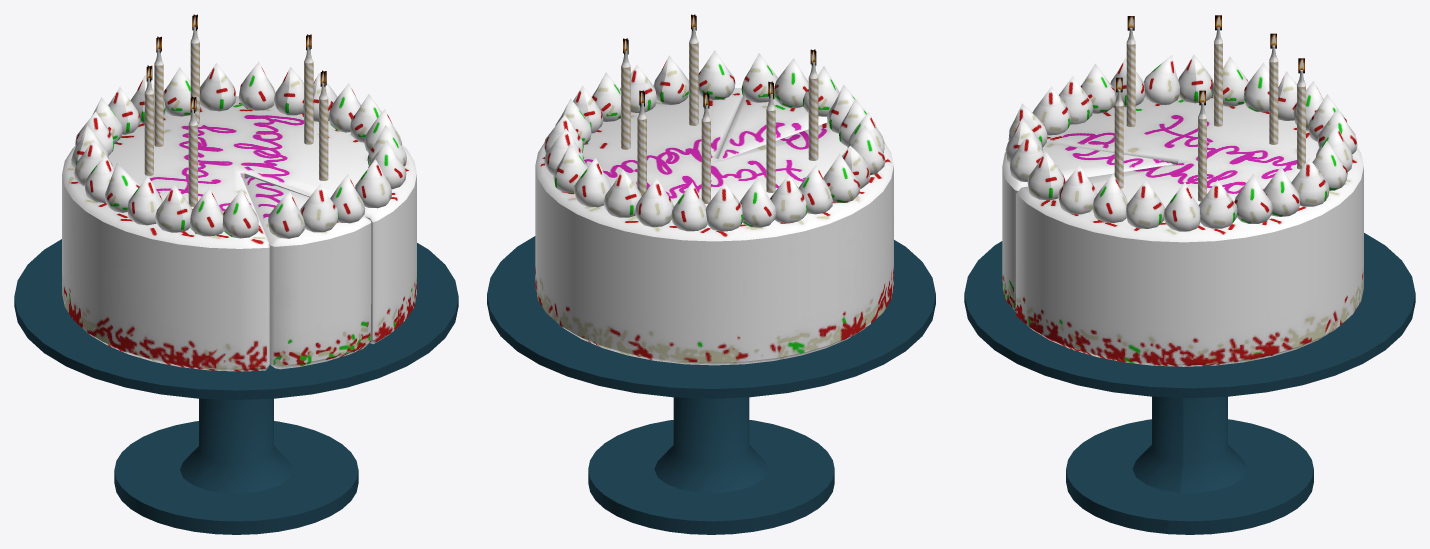
Rendered from Pizza Party Cake.fbx.
3 views of the same model, side by side, from view 1: azimuth 30°, elevation 25°; view 2: azimuth 150°, elevation 25°; view 3: azimuth 270°, elevation 25° (orthographic).
Visible parts, largest first — view 1: MOD_CakeSliceTakenOut.001, MOD_CakePlatter.001, MOD_CakeSlice.001, MOD_BirthdayCandle.002, MOD_BirthdayCandle.004, MOD_BirthdayCandle.001, MOD_BirthdayCandle.003, MOD_BirthdayCandle.005, MOD_BirthdayCandle.006; view 2: MOD_CakeSliceTakenOut.001, MOD_CakePlatter.001, MOD_CakeSlice.001, MOD_BirthdayCandle.001, MOD_BirthdayCandle.003, MOD_BirthdayCandle.004, MOD_BirthdayCandle.005, MOD_BirthdayCandle.002, MOD_BirthdayCandle.006; view 3: MOD_CakeSliceTakenOut.001, MOD_CakePlatter.001, MOD_CakeSlice.001, MOD_BirthdayCandle.001, MOD_BirthdayCandle.003, MOD_BirthdayCandle.004, MOD_BirthdayCandle.002, MOD_BirthdayCandle.006, MOD_BirthdayCandle.005.
Boxes of the visible parts, x1,y1,x2,y2 form: MOD_CakeSliceTakenOut.001: (62,61,416,371); MOD_CakePlatter.001: (14,239,458,534); MOD_CakeSlice.001: (242,174,371,369); MOD_BirthdayCandle.002: (144,65,153,175); MOD_BirthdayCandle.004: (319,70,328,180); MOD_BirthdayCandle.001: (188,96,197,207); MOD_BirthdayCandle.003: (154,36,163,146); MOD_BirthdayCandle.005: (304,34,313,144); MOD_BirthdayCandle.006: (190,14,199,124); MOD_CakeSliceTakenOut.001: (535,50,893,365); MOD_CakePlatter.001: (487,236,935,534); MOD_CakeSlice.001: (718,53,839,159); MOD_BirthdayCandle.001: (808,49,818,160); MOD_BirthdayCandle.003: (701,92,710,203); MOD_BirthdayCandle.004: (689,14,698,125); MOD_BirthdayCandle.005: (621,38,630,149); MOD_BirthdayCandle.002: (766,81,775,192); MOD_BirthdayCandle.006: (637,90,646,195); MOD_CakeSliceTakenOut.001: (1016,54,1363,366); MOD_CakePlatter.001: (964,233,1415,534); MOD_CakeSlice.001: (1002,103,1172,311); MOD_BirthdayCandle.001: (1126,16,1135,127); MOD_BirthdayCandle.003: (1269,33,1278,144); MOD_BirthdayCandle.004: (1114,77,1123,188); MOD_BirthdayCandle.002: (1214,15,1222,126); MOD_BirthdayCandle.006: (1297,58,1305,169); MOD_BirthdayCandle.005: (1198,90,1206,201).
Size of the model in its own units: 5878 by 6197 by 5878.
